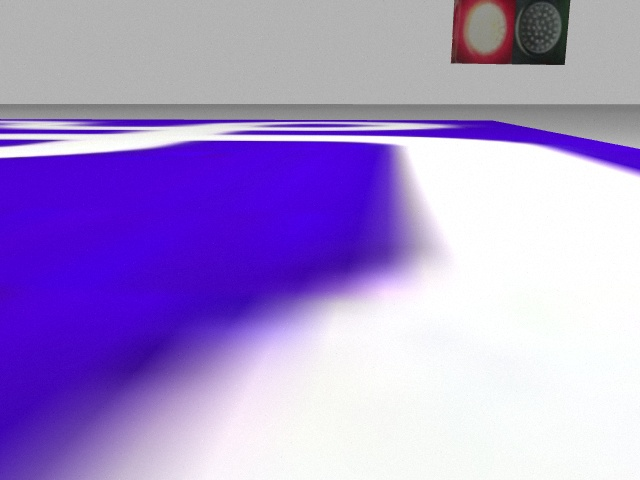red: (454, 1, 509, 65)
